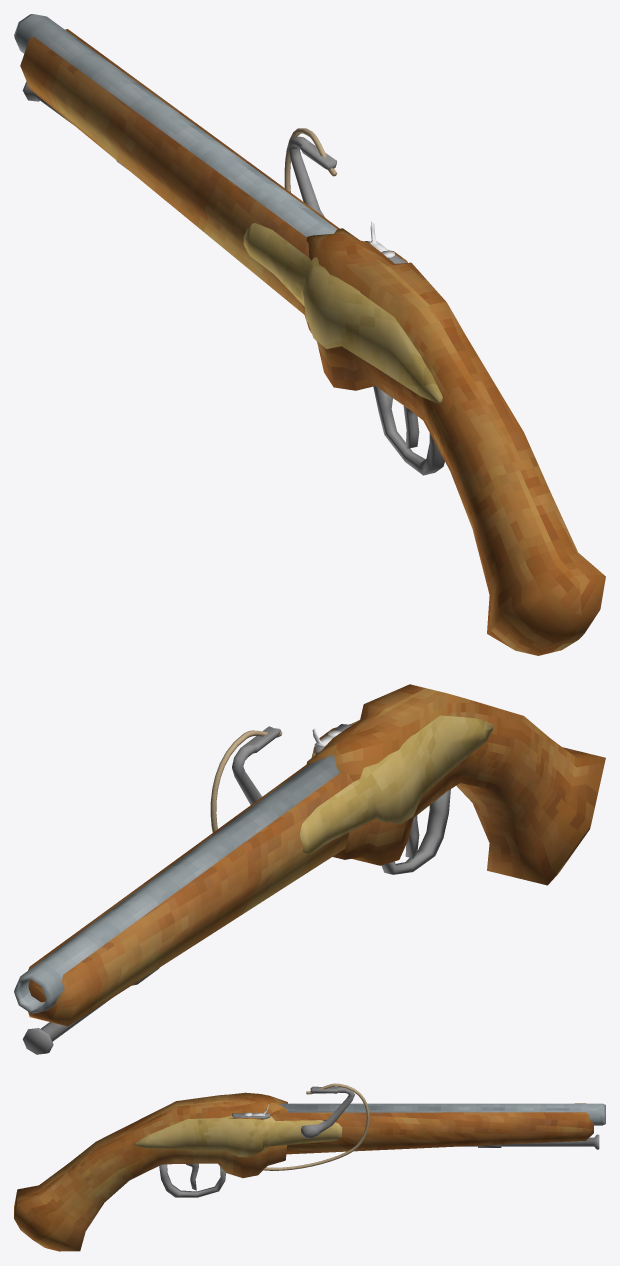
File: MatchlockExport.fbx
3 views of the same model, one above another, from view 1: azimuth 30°, elevation 25°; view 2: azimuth 150°, elevation 25°; view 3: azimuth 270°, elevation 25° (orthographic). The views are drawn at different scales.
Visible parts, largest first — view 1: MatchlockBody, MatchlockSerpentine; view 2: MatchlockBody, MatchlockSerpentine, MatchlockRamrod; view 3: MatchlockBody, MatchlockSerpentine, MatchlockRamrod.
Boxes of the visible parts, x1,y1,x2,y2 form: MatchlockBody: [14, 14, 605, 655]; MatchlockSerpentine: [284, 128, 337, 217]; MatchlockBody: [14, 684, 605, 1026]; MatchlockSerpentine: [210, 726, 282, 832]; MatchlockRamrod: [22, 999, 110, 1054]; MatchlockBody: [14, 1092, 605, 1251]; MatchlockSerpentine: [263, 1083, 369, 1170]; MatchlockRamrod: [461, 1134, 599, 1149].
Bounding box in the file's own units: 0.9151 × 3.05 × 9.58.
